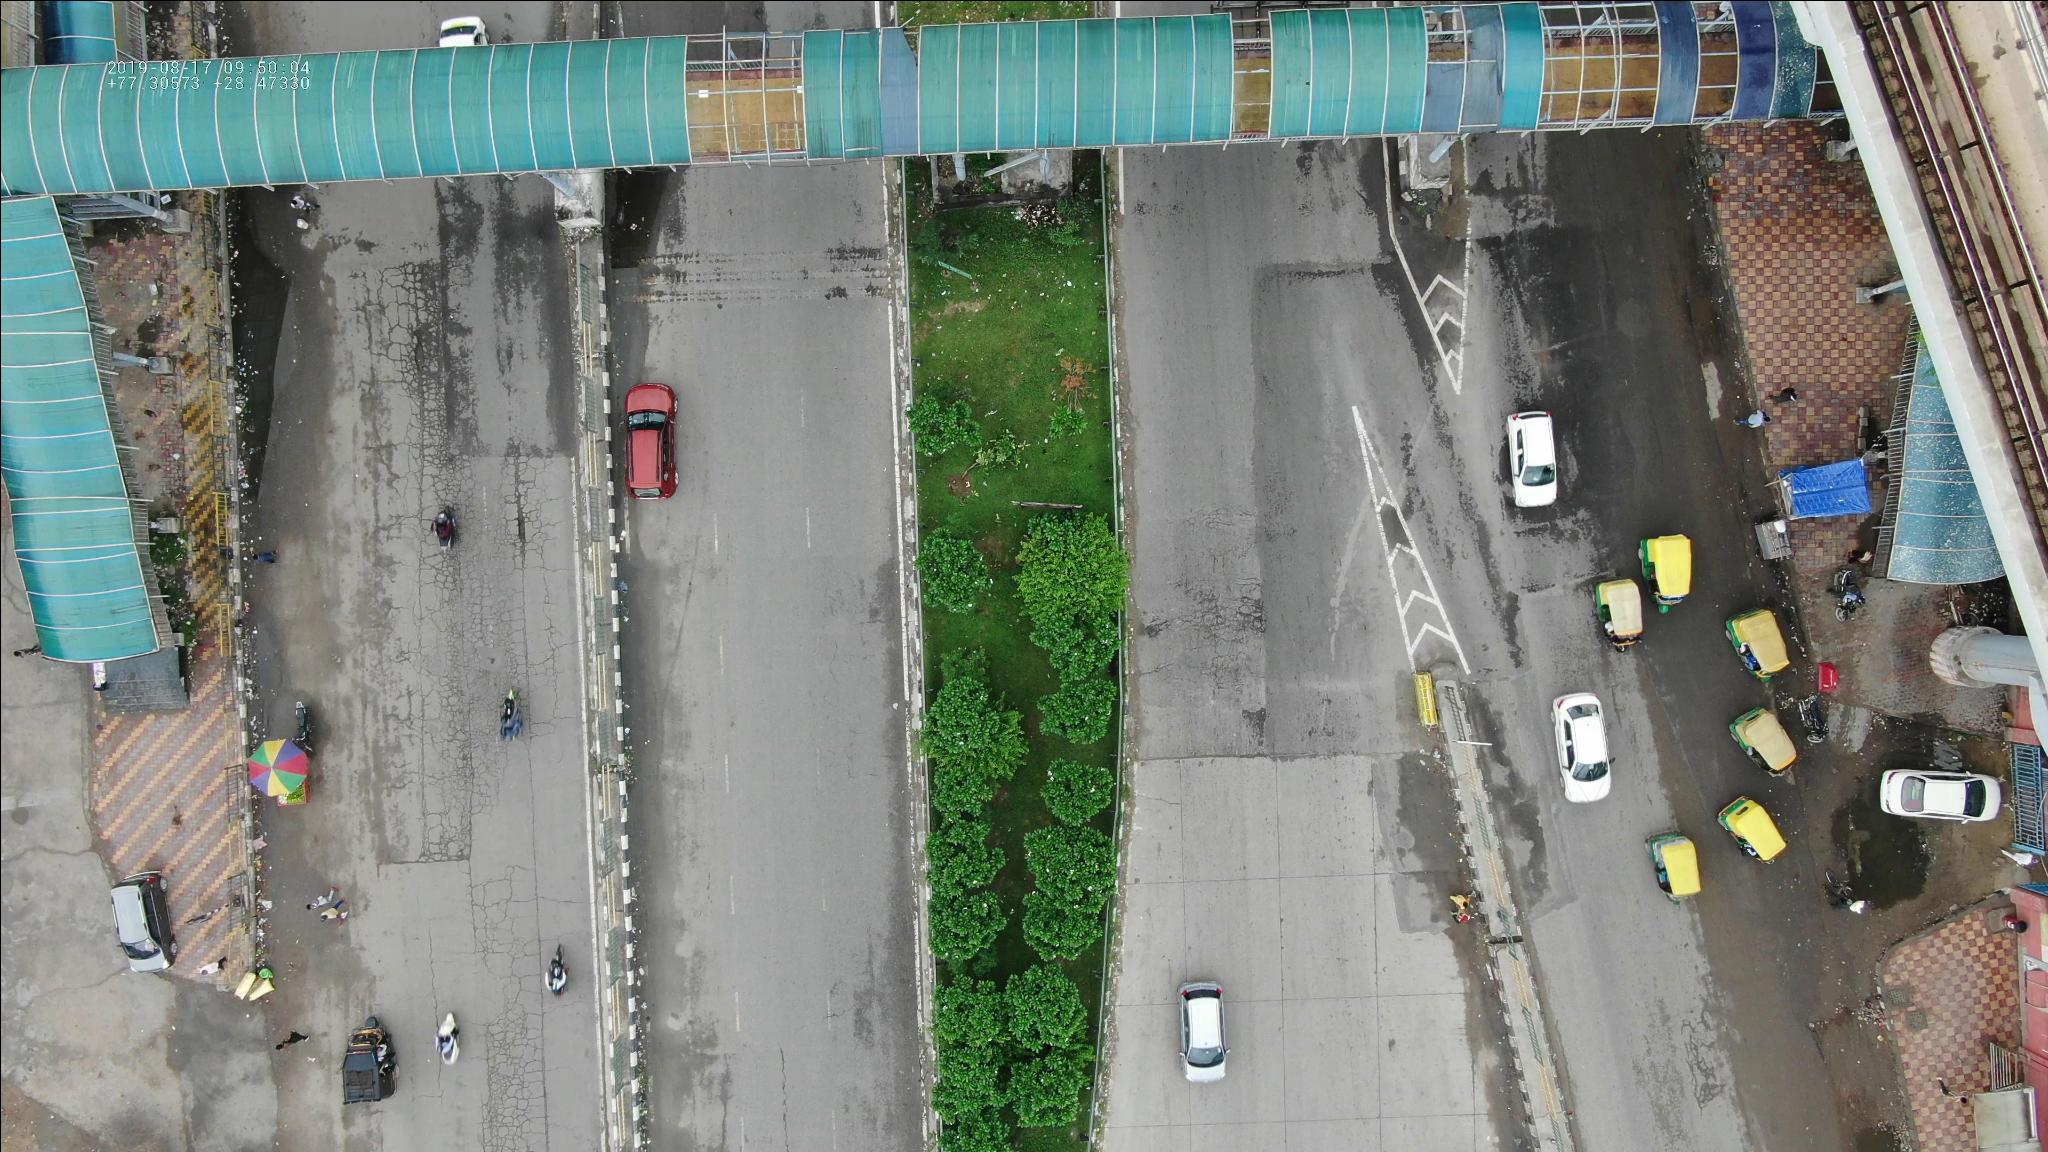Cracks: (307, 250, 551, 892), (1159, 497, 1281, 726), (1667, 999, 1722, 1106)
Waterlogging: (232, 198, 300, 404)
